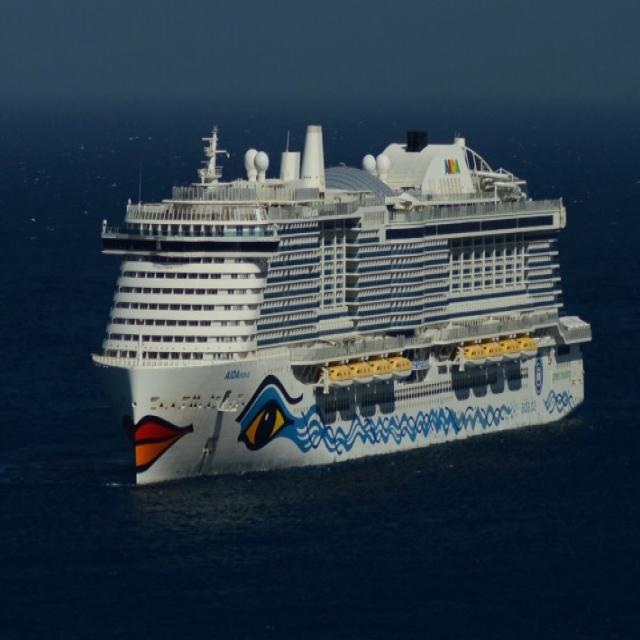cruises: (89, 112, 597, 498)
